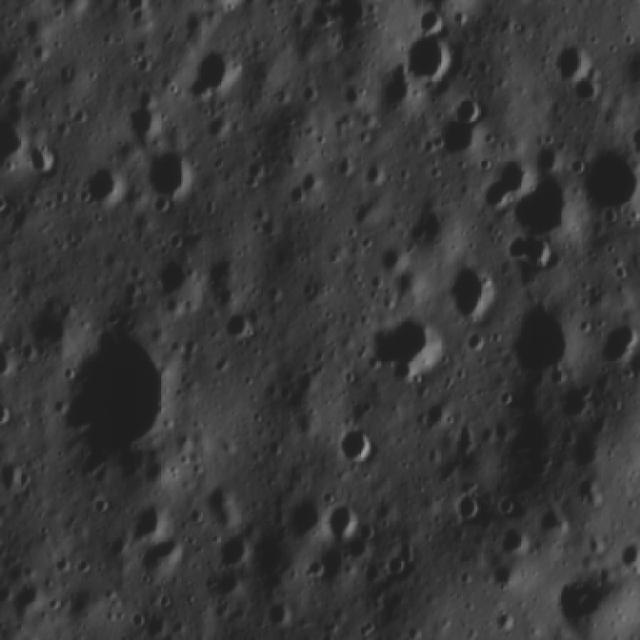crater: (50, 323, 182, 465), (498, 306, 578, 383), (505, 160, 578, 235), (370, 313, 436, 381), (582, 145, 636, 223), (179, 44, 241, 110), (554, 561, 620, 621), (393, 22, 459, 82), (440, 254, 498, 320), (70, 156, 127, 215), (139, 144, 195, 198), (127, 82, 170, 148), (552, 377, 605, 428), (542, 34, 592, 88), (491, 230, 551, 268), (342, 418, 384, 469), (126, 498, 166, 550), (595, 322, 640, 368), (321, 495, 370, 537), (446, 90, 492, 132), (155, 256, 193, 302), (220, 520, 252, 571), (534, 490, 564, 535), (447, 488, 485, 522), (221, 306, 256, 342), (488, 562, 521, 592), (499, 523, 526, 554), (495, 489, 523, 516)
